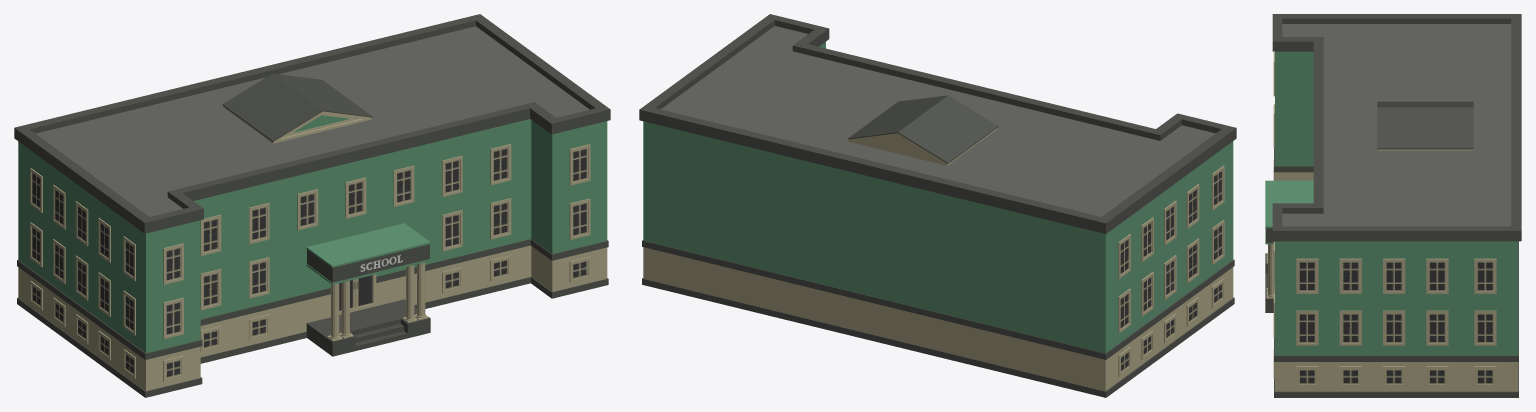
The model's file is spb-school.glb.
The picture shows the model from 3 angles, left to right: view 1: azimuth 30°, elevation 25°; view 2: azimuth 150°, elevation 25°; view 3: azimuth 270°, elevation 25°; orthographic projection. The views are drawn at different scales.
Visible parts, largest first — view 1: SPB_School; view 2: SPB_School; view 3: SPB_School.
Boxes of the visible parts, x1,y1,x2,y2 form: SPB_School: (14,14,610,397); SPB_School: (639,14,1236,397); SPB_School: (1265,14,1521,397).
Bounding box in the file's own units: 36.35 × 14.26 × 18.15.
1 material, 1 textured.
